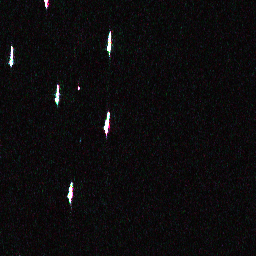ship: (101, 110, 112, 134), (65, 181, 76, 201), (7, 44, 15, 67), (105, 30, 113, 53), (53, 83, 61, 106), (41, 1, 51, 9)
